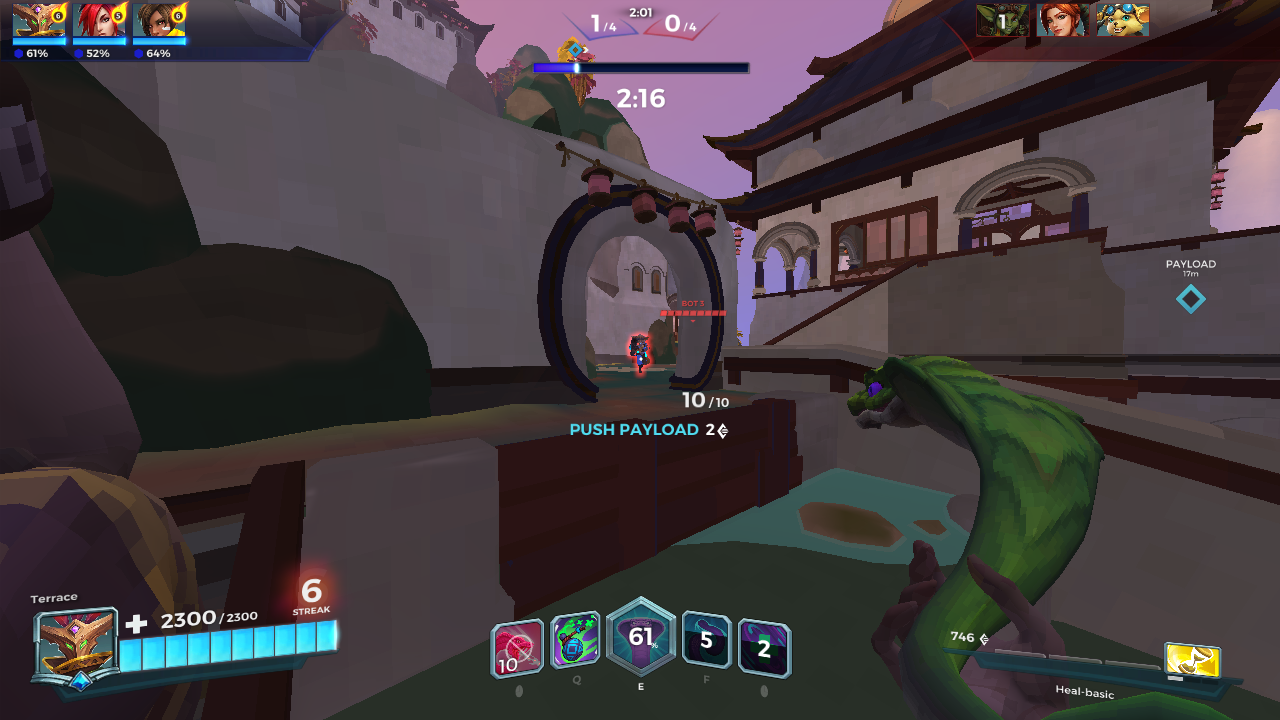model: (620, 327, 653, 377)
